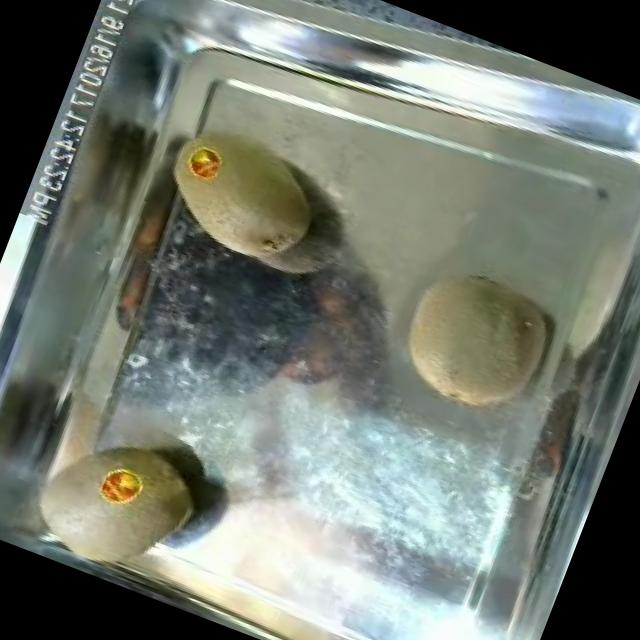Fruit: (370, 238, 576, 442), (13, 404, 222, 604), (150, 108, 348, 288)
